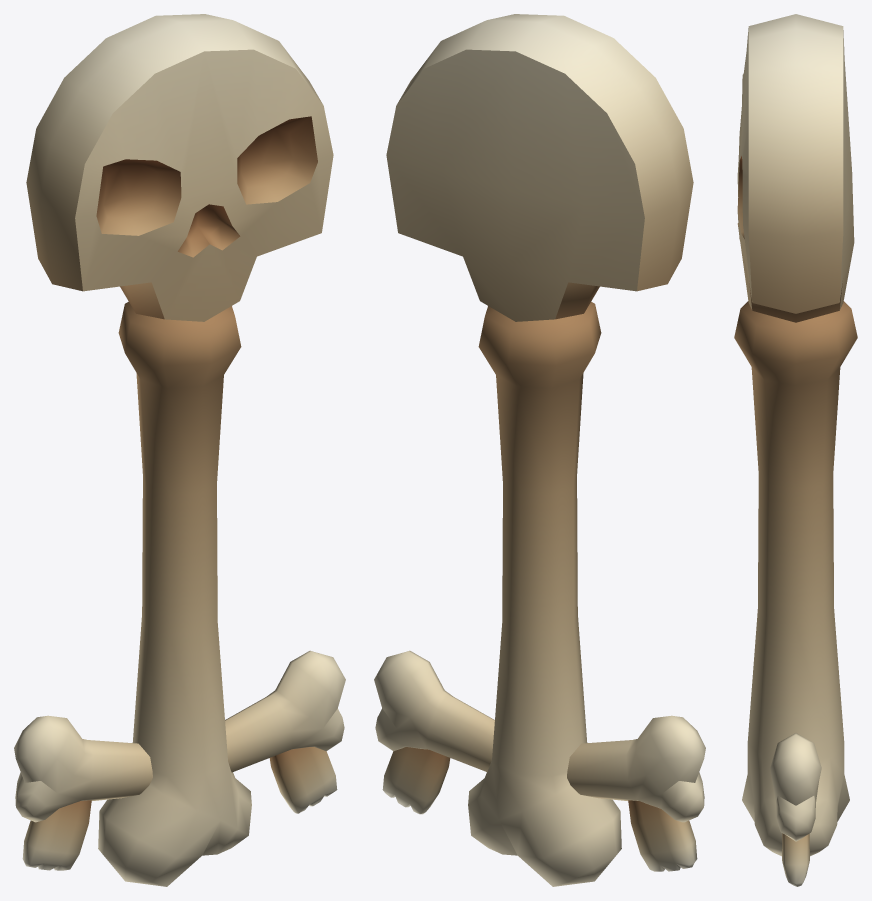
File: Bone_Key_04.glb
The picture shows the model from 3 angles, left to right: view 1: azimuth 30°, elevation 25°; view 2: azimuth 150°, elevation 25°; view 3: azimuth 270°, elevation 25°; orthographic projection. The views are drawn at different scales.
Visible parts, largest first — view 1: Bone_Key_04; view 2: Bone_Key_04; view 3: Bone_Key_04.
Part boxes in pixels (bbox=[...]): Bone_Key_04: bbox=[14, 14, 345, 886]; Bone_Key_04: bbox=[374, 14, 705, 886]; Bone_Key_04: bbox=[734, 14, 857, 886].
Bounding box in the file's own units: 0.3794 × 0.9428 × 0.1271.
1 material, 1 textured.
